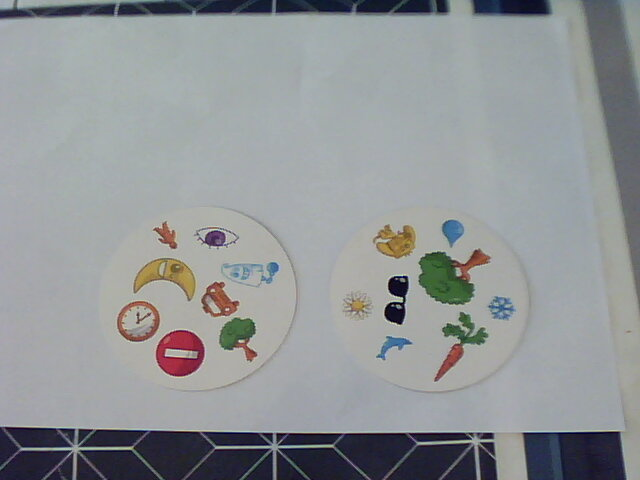arbre: (417, 245, 493, 308), (218, 315, 264, 366)
bonhomme: (149, 220, 181, 251)
carotte: (428, 311, 490, 384)
chien: (370, 220, 417, 261)
dauphin: (374, 330, 415, 363)
fantome: (220, 258, 283, 288)
fleur: (341, 290, 375, 322)
flocon: (486, 291, 517, 322)
goutte: (438, 217, 465, 249)
horloge: (116, 299, 161, 344)
lune: (130, 256, 198, 302)
lunette: (384, 272, 413, 329)
oeuil: (193, 224, 241, 251)
sens_interdit: (154, 327, 207, 379)
voiture: (197, 280, 243, 319)
